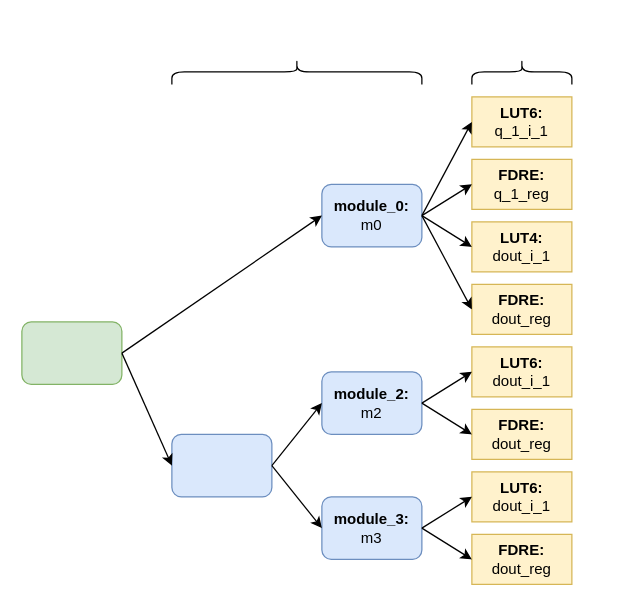
This 619x606 diagram has some shape labels left out. Here are the shapes that lost their labels. From the top down, the box of each, then its label:
(171, 58, 422, 84): Hierarchical Cells
(471, 58, 572, 84): Leaf Cells
(21, 321, 122, 384): top_level
(171, 433, 272, 497): module_1: m1
